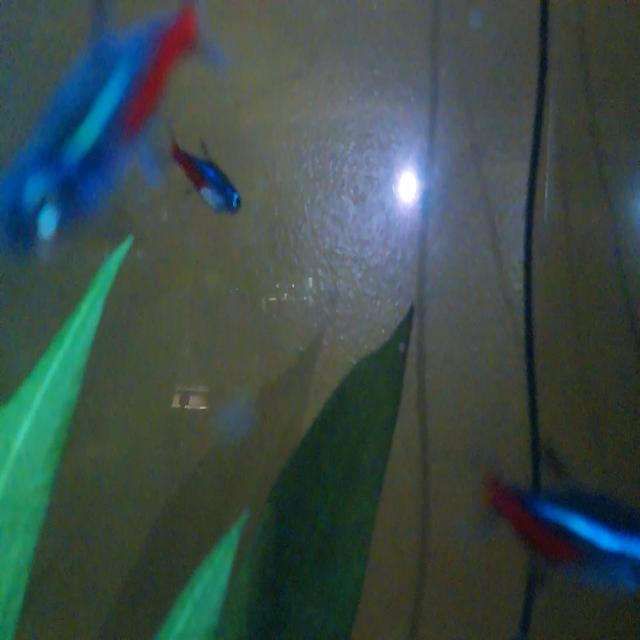fish: (476, 435, 640, 604), (162, 110, 248, 226)
